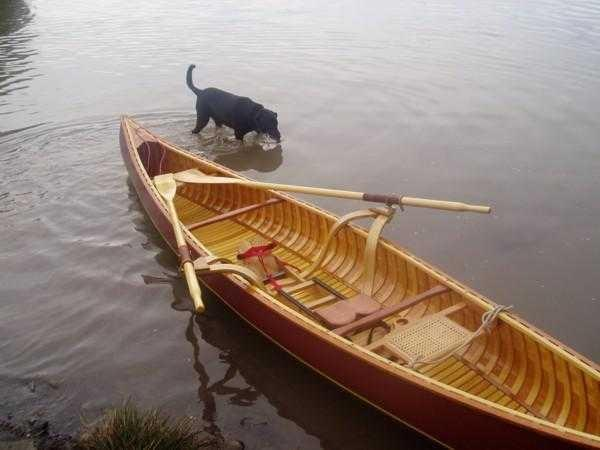kayak: (117, 114, 597, 449)
